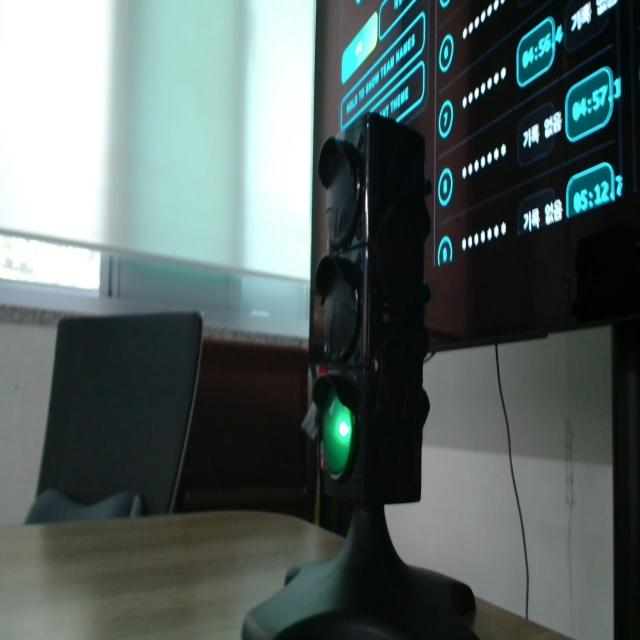green_light: (323, 392, 353, 476)
